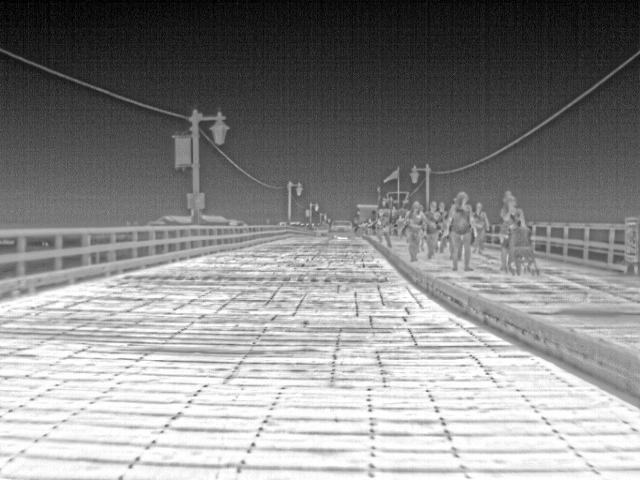car: (330, 218, 356, 239)
person: (438, 192, 473, 270), (499, 194, 527, 267), (403, 198, 427, 260), (420, 200, 441, 256), (469, 200, 489, 252), (373, 196, 393, 246)
